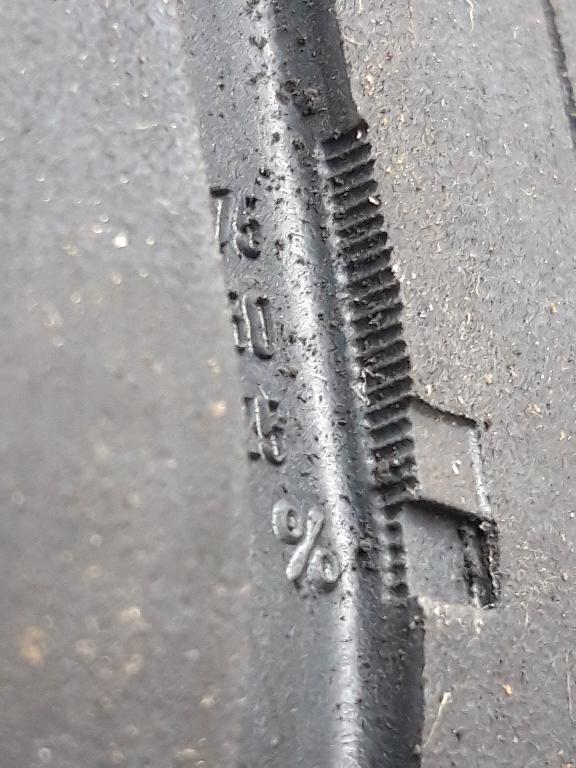temoin:25: (351, 387, 512, 624)
